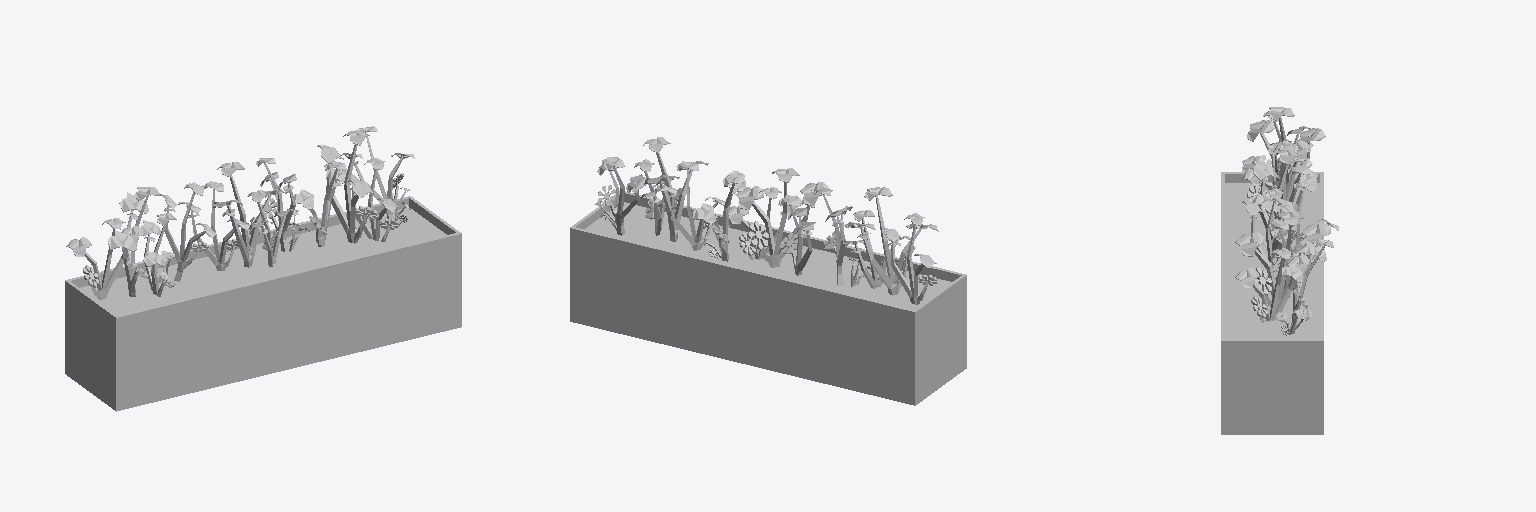
Rendered from plant outside big.obj.
The picture shows the model from 3 angles: view 1: azimuth 30°, elevation 25°; view 2: azimuth 150°, elevation 25°; view 3: azimuth 270°, elevation 25°; orthographic projection.
Parts seen in each view (by area): view 1: Plane.020_Plane.011; view 2: Plane.020_Plane.011; view 3: Plane.020_Plane.011.
Boxes of the visible parts, x1=… form: Plane.020_Plane.011: x1=65, y1=126, x2=461, y2=411; Plane.020_Plane.011: x1=570, y1=137, x2=966, y2=405; Plane.020_Plane.011: x1=1221, y1=107, x2=1338, y2=434.
Size of the model in its own units: 4.02 by 2.01 by 1.17.